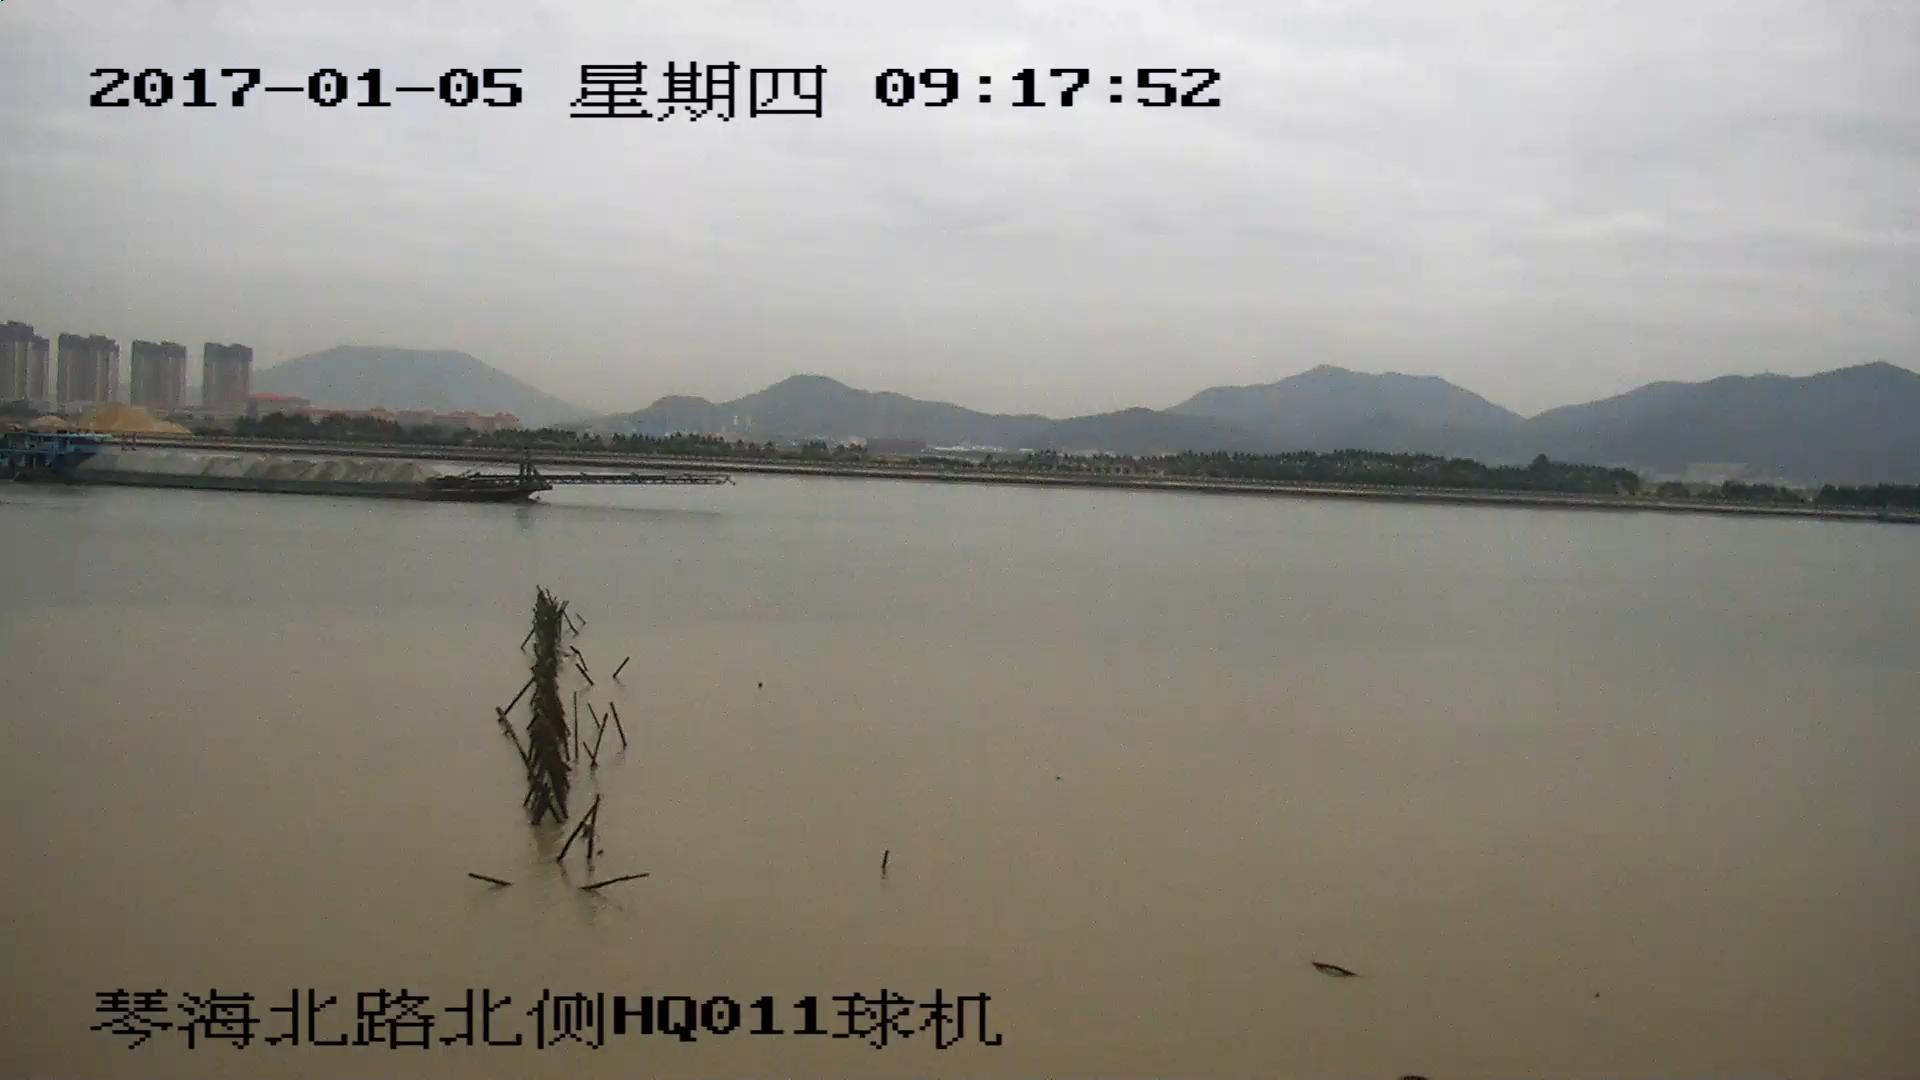Ship: (3, 439, 725, 505)
